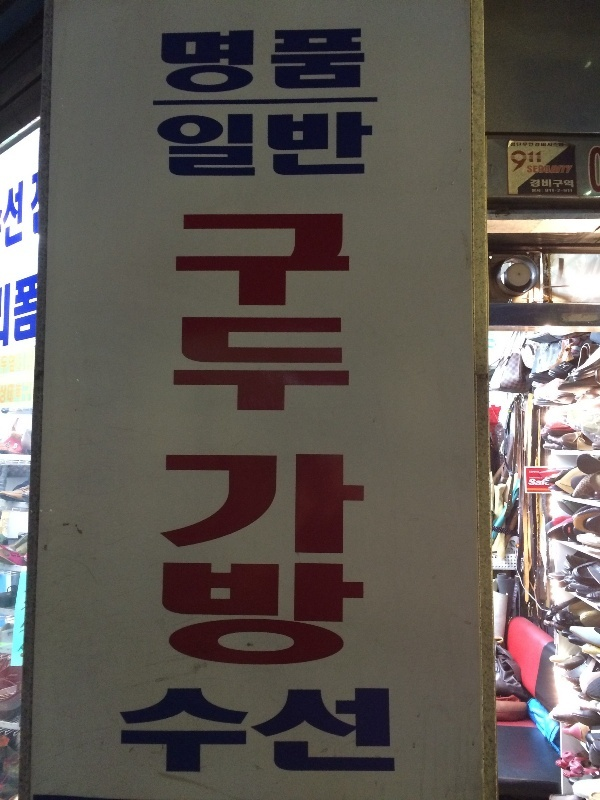text: (177, 450, 192, 676), (193, 450, 208, 676), (209, 450, 224, 676), (225, 450, 240, 676), (241, 450, 256, 676), (257, 450, 272, 676), (273, 450, 288, 676), (289, 450, 304, 676), (305, 450, 320, 676), (321, 450, 336, 676), (337, 450, 352, 676), (177, 208, 192, 420), (193, 208, 208, 420), (209, 208, 224, 420), (225, 208, 240, 420), (241, 208, 256, 420), (257, 208, 272, 420), (273, 208, 288, 420), (289, 208, 304, 420), (305, 208, 320, 420), (321, 208, 336, 420), (337, 208, 352, 420), (163, 450, 176, 676), (353, 450, 365, 676), (129, 681, 144, 781), (145, 681, 160, 781), (161, 681, 176, 781), (177, 681, 192, 781), (193, 681, 208, 781), (209, 681, 224, 781), (225, 681, 240, 781), (241, 681, 256, 781), (257, 681, 272, 781), (273, 681, 288, 781), (289, 681, 304, 781), (305, 681, 320, 781), (321, 681, 336, 781), (337, 681, 352, 781), (353, 681, 368, 781), (369, 681, 384, 781), (385, 681, 397, 781), (1, 274, 16, 350), (17, 274, 32, 350), (17, 589, 32, 660), (161, 108, 176, 178), (177, 108, 192, 178), (193, 108, 208, 178), (209, 108, 224, 178), (225, 108, 240, 178), (241, 108, 256, 178), (257, 108, 272, 178), (273, 108, 288, 178), (289, 108, 304, 178), (305, 108, 320, 178), (321, 108, 336, 178), (337, 108, 352, 178), (353, 108, 368, 178), (161, 27, 176, 94), (177, 27, 192, 94), (193, 27, 208, 94), (209, 27, 224, 94), (225, 27, 240, 94), (241, 27, 256, 94), (257, 27, 272, 94), (273, 27, 288, 94), (289, 27, 304, 94), (305, 27, 320, 94), (321, 27, 336, 94), (337, 27, 352, 94), (3, 179, 16, 250), (353, 27, 366, 94), (121, 681, 128, 781), (17, 179, 24, 250), (353, 208, 355, 420), (33, 171, 39, 235), (1, 210, 16, 234), (155, 108, 160, 178), (1, 381, 16, 404), (17, 381, 32, 404), (513, 151, 528, 173), (593, 145, 600, 192), (1, 353, 16, 374), (33, 274, 37, 350), (369, 108, 373, 178), (529, 151, 541, 173), (588, 145, 592, 192), (529, 476, 544, 486), (545, 179, 560, 188), (30, 171, 32, 235), (530, 179, 544, 188), (529, 166, 544, 174), (561, 179, 574, 188), (561, 165, 573, 174), (5, 441, 16, 448), (513, 143, 528, 148), (529, 143, 544, 148), (545, 143, 560, 148), (552, 165, 560, 174), (545, 189, 560, 193), (533, 188, 544, 193), (545, 476, 550, 486), (561, 189, 573, 193), (529, 471, 544, 474), (510, 151, 512, 173), (545, 166, 550, 174), (529, 477, 544, 479), (561, 143, 564, 148), (17, 443, 19, 450), (527, 166, 528, 174), (15, 443, 16, 450), (511, 143, 512, 148)
